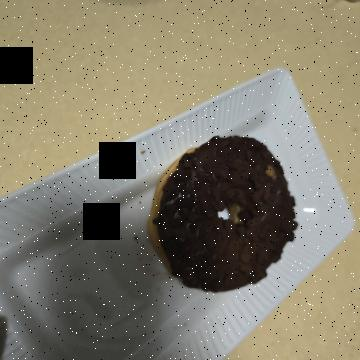doughnut: (123, 67, 306, 237)
